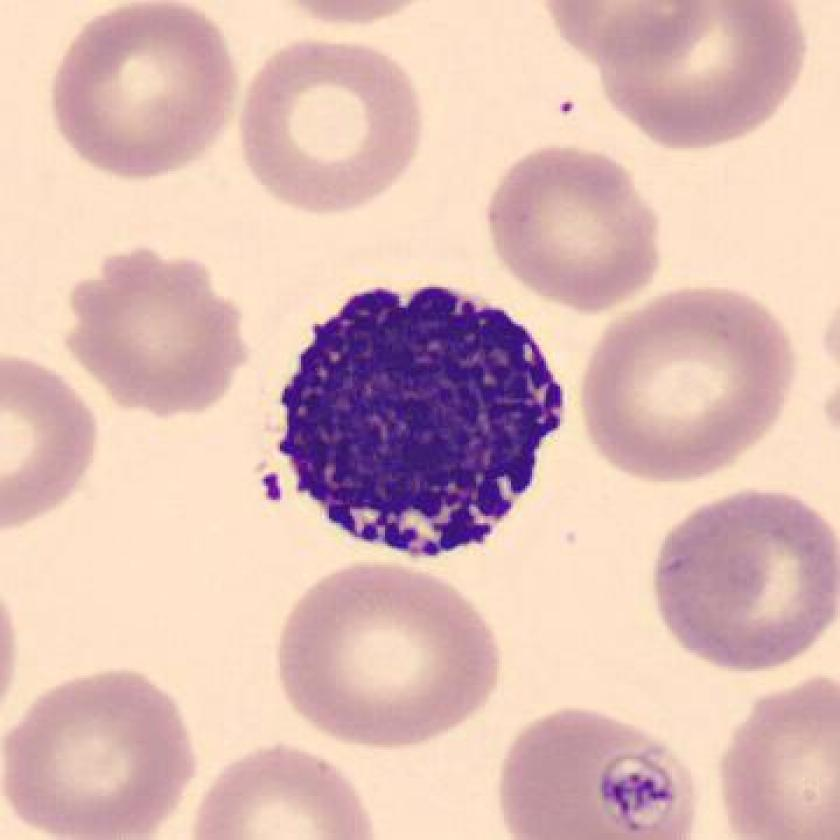basophil: (267, 276, 573, 559)
